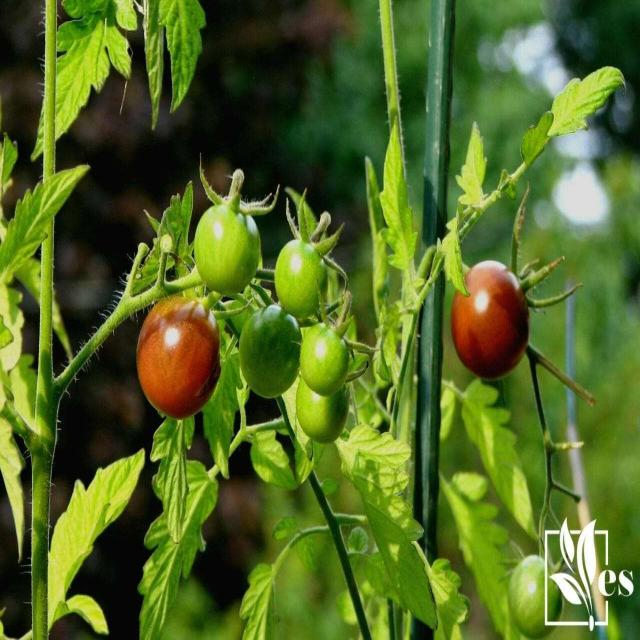level 1: (193, 196, 264, 307), (238, 302, 306, 403), (291, 352, 354, 450), (275, 234, 331, 325), (508, 553, 563, 640), (297, 319, 356, 396)
level 6: (137, 293, 226, 422), (449, 254, 533, 379)
